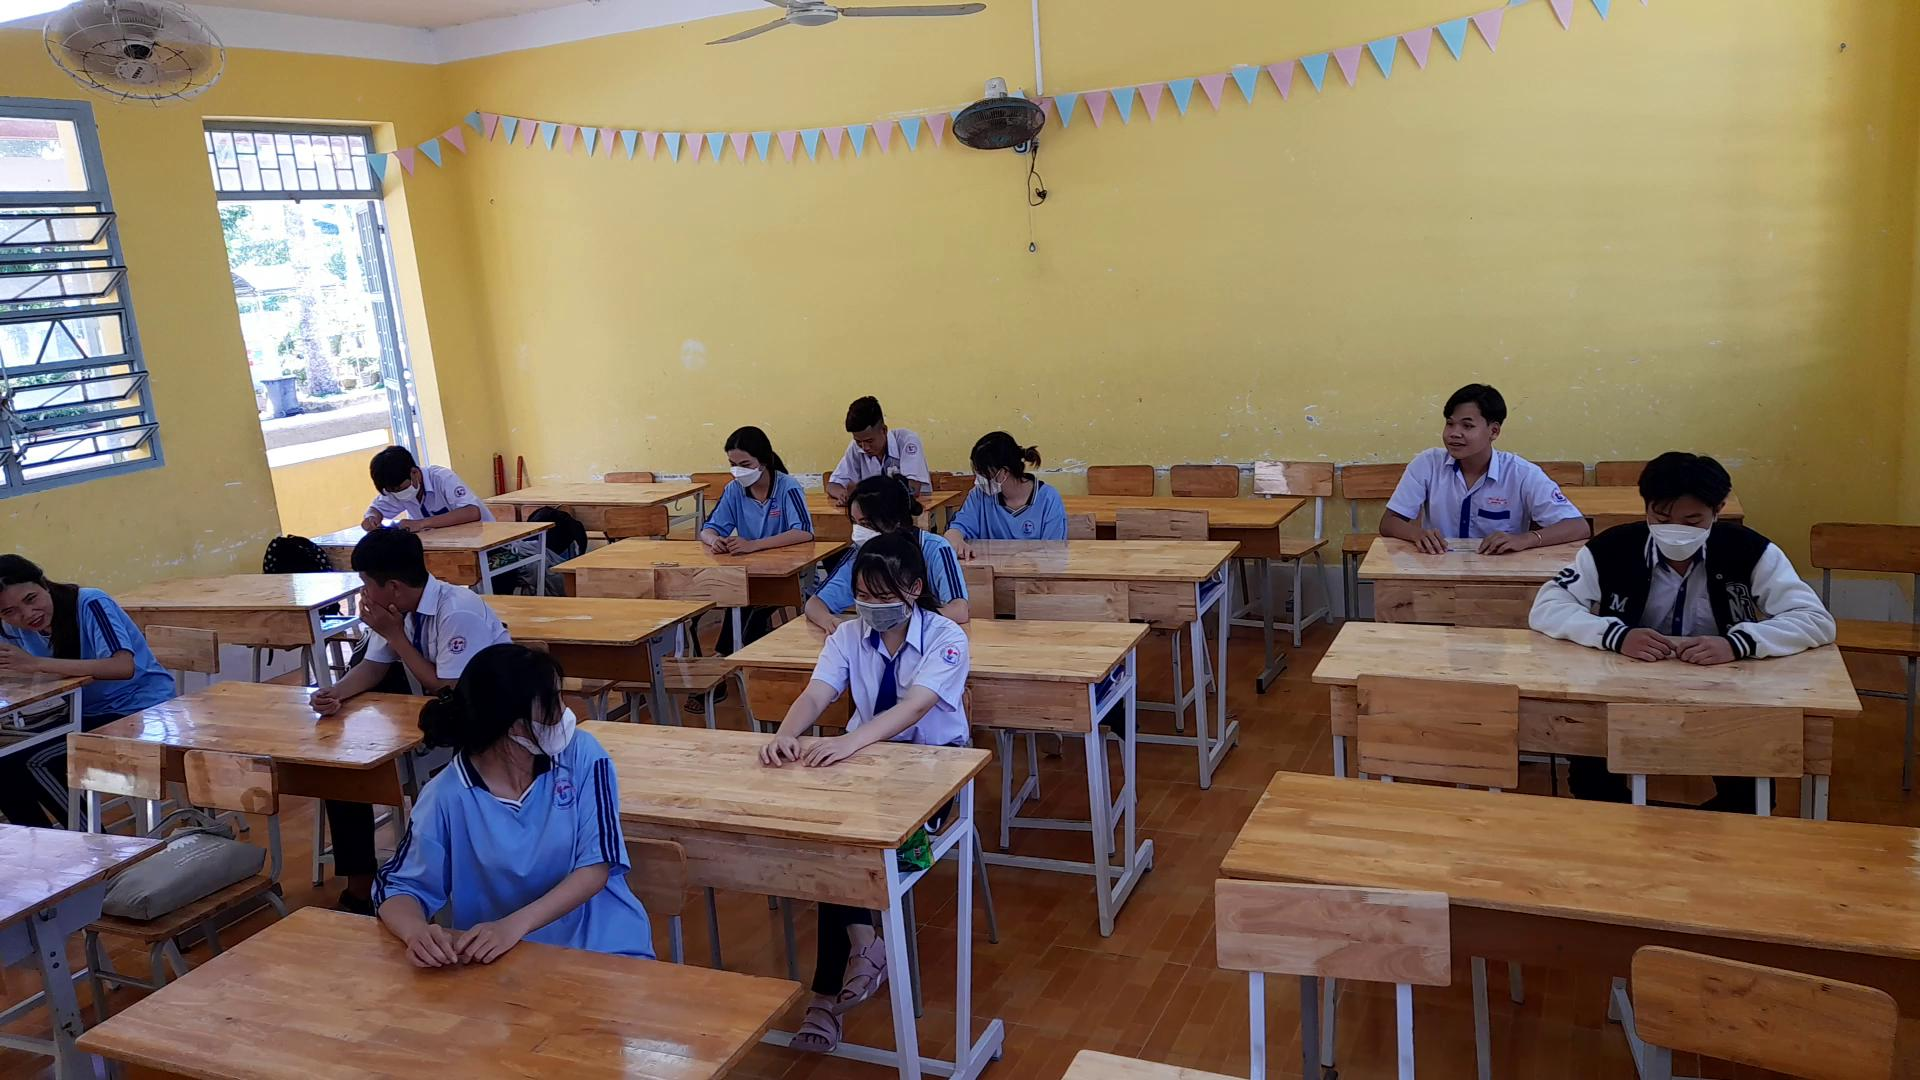Hand Under Table: (1027, 473, 1065, 546)
Look Around: (421, 637, 584, 771), (0, 559, 146, 686), (338, 516, 431, 609), (959, 414, 1033, 497)
Normal: (1527, 430, 1859, 661), (749, 524, 972, 774), (1375, 373, 1598, 556), (688, 406, 816, 563), (804, 385, 927, 483)
